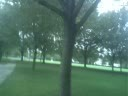window: (85, 74, 99, 96), (88, 25, 101, 44), (119, 14, 128, 41), (46, 77, 54, 96), (54, 37, 61, 56), (35, 44, 42, 62), (27, 78, 33, 96), (86, 0, 95, 12)
